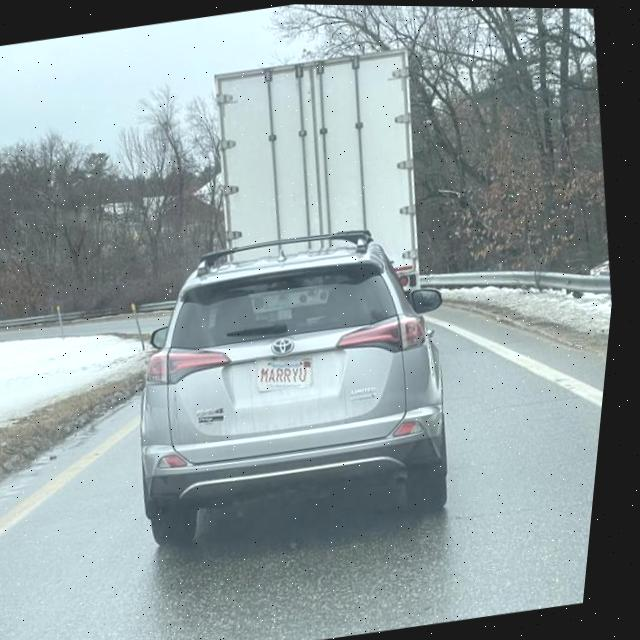LicensePlate: (262, 356, 320, 388)
